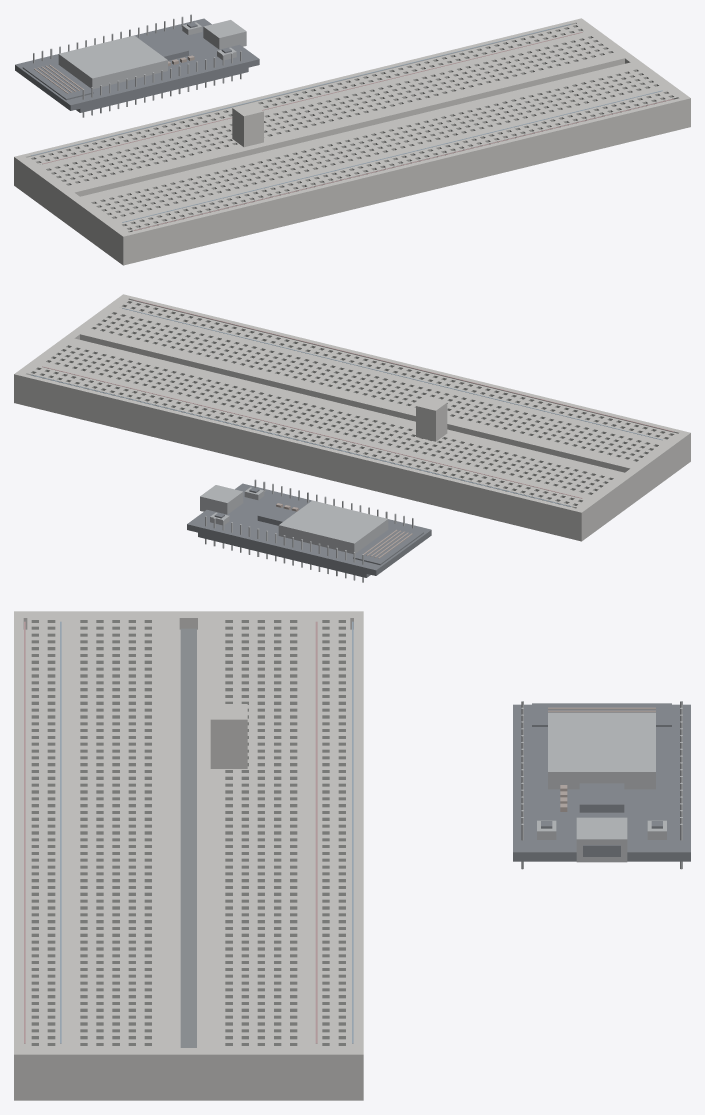
Rendered from step-1.glb.
3 renders of one model, top to bottom at view 1: azimuth 30°, elevation 25°; view 2: azimuth 150°, elevation 25°; view 3: azimuth 270°, elevation 25°, orthographic. The views are drawn at different scales.
Visible parts, largest first — view 1: breadboard__mesh, arduino__mesh, rgb_led__mesh; view 2: breadboard__mesh, arduino__mesh, rgb_led__mesh; view 3: breadboard__mesh, arduino__mesh, rgb_led__mesh.
Boxes of the visible parts, bbox=[...] form: breadboard__mesh: bbox=[14, 18, 690, 265]; arduino__mesh: bbox=[15, 14, 259, 117]; rgb_led__mesh: bbox=[232, 103, 263, 147]; breadboard__mesh: bbox=[14, 294, 690, 541]; arduino__mesh: bbox=[187, 479, 431, 582]; rgb_led__mesh: bbox=[416, 397, 447, 441]; breadboard__mesh: bbox=[14, 611, 363, 1100]; arduino__mesh: bbox=[513, 701, 690, 869]; rgb_led__mesh: bbox=[210, 704, 247, 768].
Size of the model in its own units: 0.165 by 0.0166 by 0.1065.
